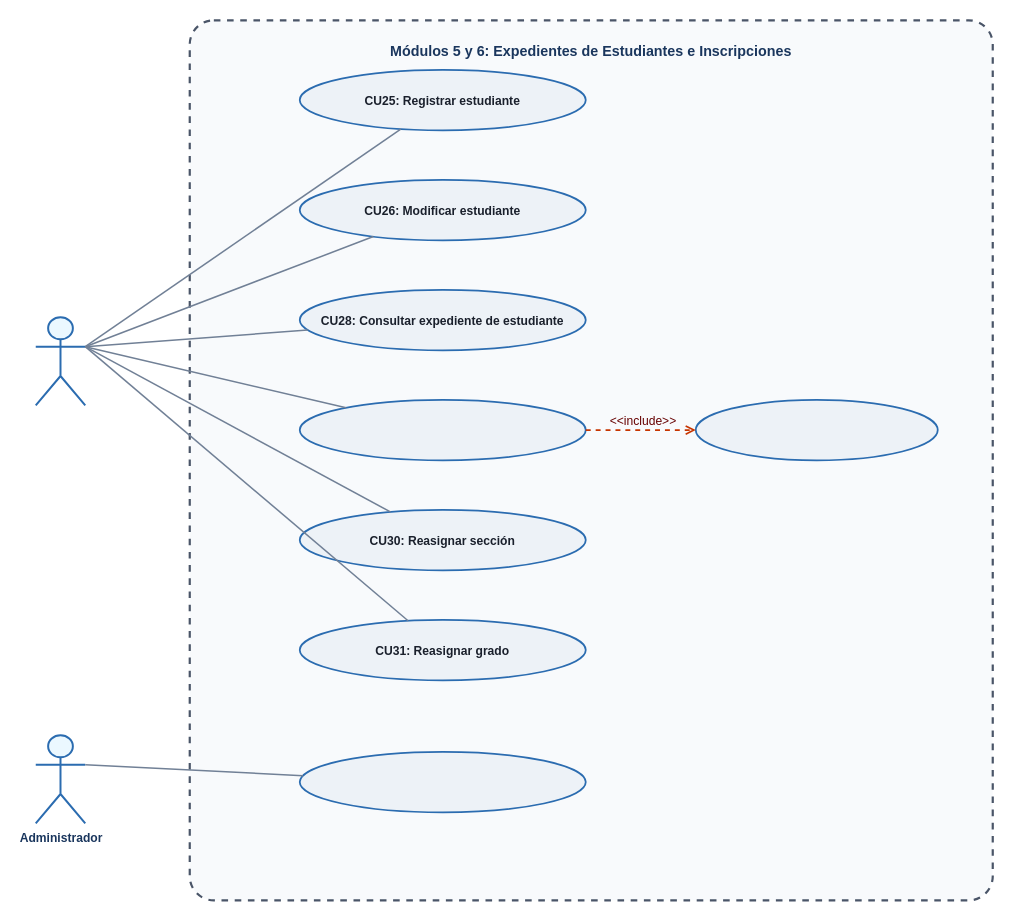
This 1012x920 diagram has some shape labels left out. Each missing label, with the box of its shape:
CU27: Activar/desactivar estudiante: (298, 750, 586, 813)
CU29: Inscribir estudiante: (298, 398, 586, 461)
Secretaria: (34, 316, 86, 406)
Verificar cupo disponible en sección elegida: (694, 398, 938, 461)
